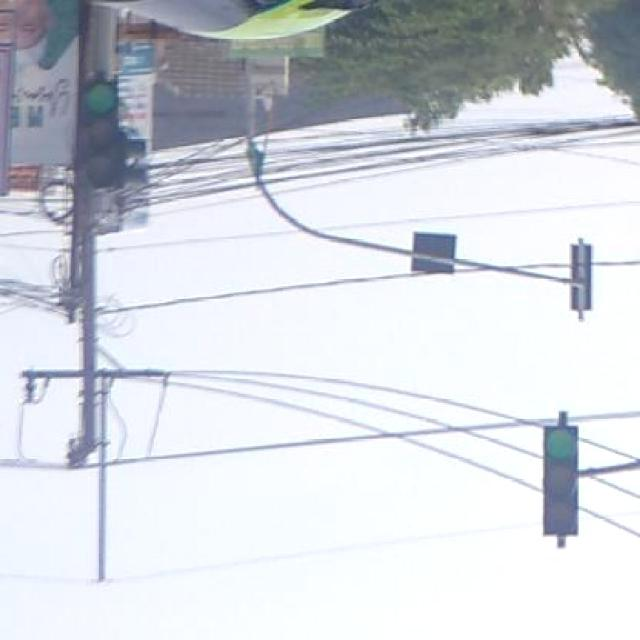Green: (530, 410, 598, 547)
